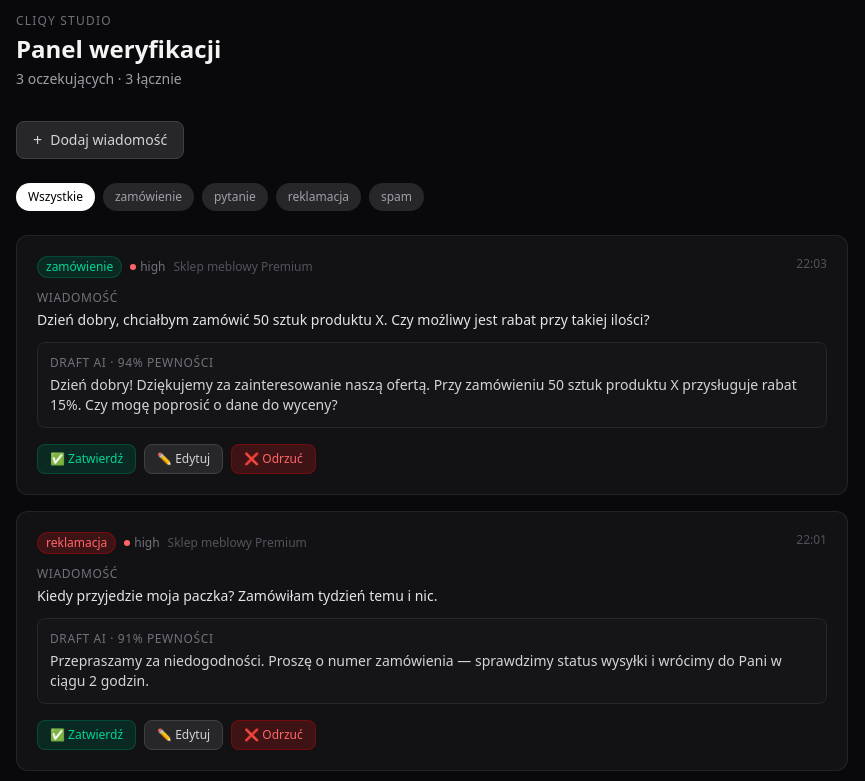
Scenario: QueuePage › category filter › shows empty state when no items match the filter
This screenshot has width=865, height=781.
Click the button "spam". click: (397, 197)
box: [369,183,424,211]
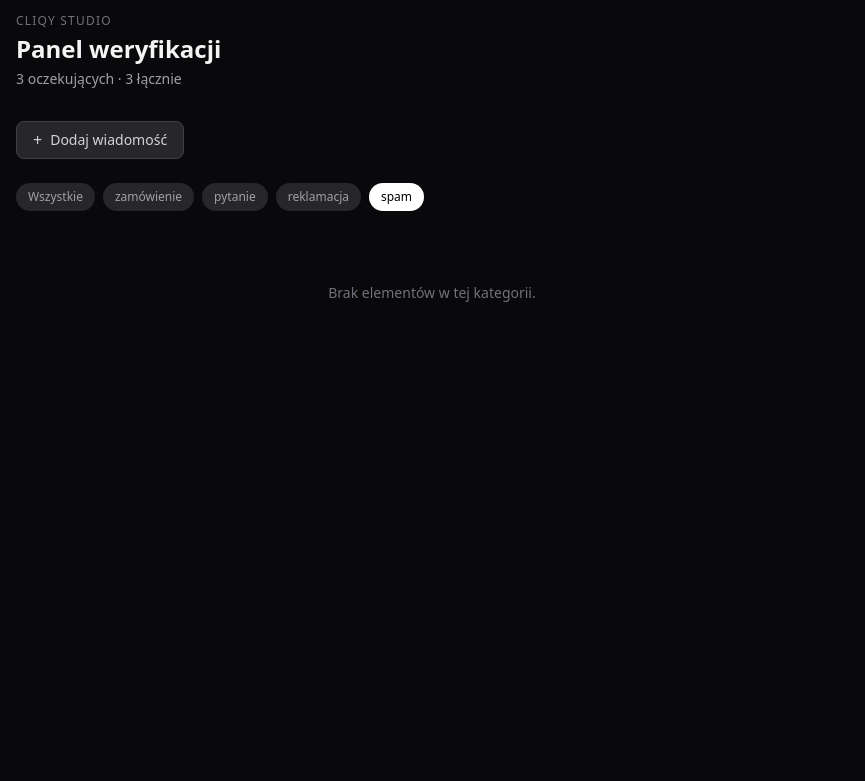
Now the text "Brak elementów w tej kategorii." is shown, box [328,283,536,302]
